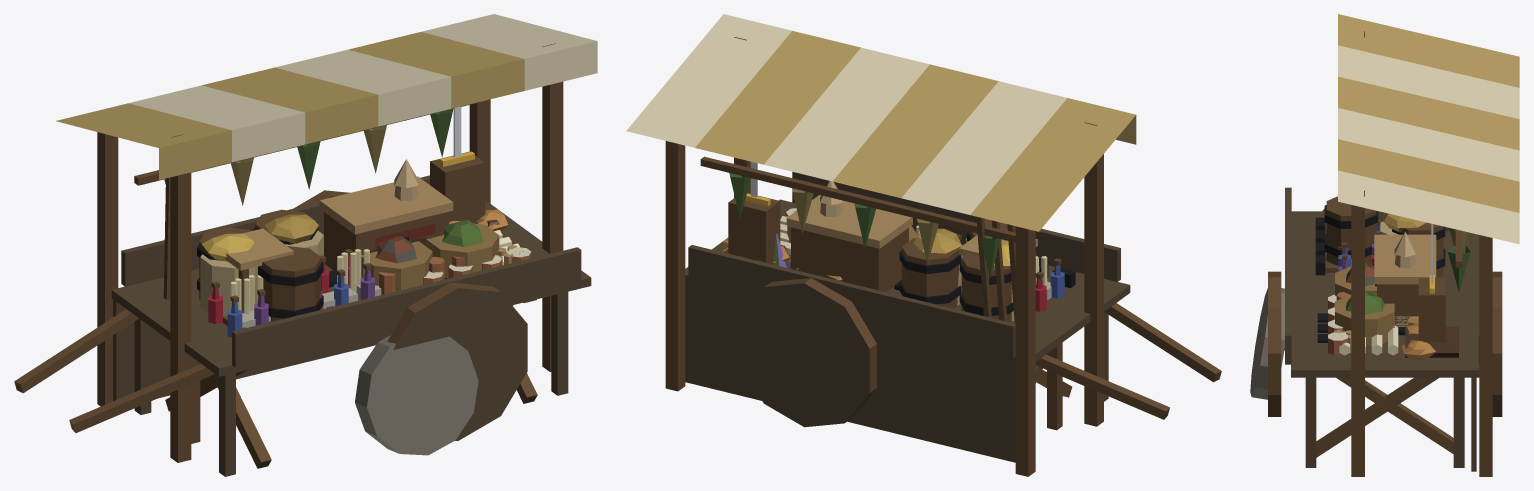
The model's file is marktstaende.glb.
The picture shows the model from 3 angles, left to right: view 1: azimuth 30°, elevation 25°; view 2: azimuth 150°, elevation 25°; view 3: azimuth 270°, elevation 25°; orthographic projection. The views are drawn at different scales.
Parts seen in each view (by area): view 1: Stand_Plane, Stand_Karren, Auslage_Stein, Auslage_Rohstoffe, Auslage_Holz, Stand_Bock, Auslage_Bier, Auslage_Tinktur, Auslage_Eisen, Auslage_Duft, Auslage_Kerzen; view 2: Stand_Plane, Stand_Karren, Auslage_Holz, Auslage_Tinktur, Auslage_Bier, Auslage_Eisen, Stand_Bock, Auslage_Rohstoffe, Auslage_Duft; view 3: Stand_Plane, Stand_Karren, Stand_Bock, Auslage_Rohstoffe, Auslage_Holz, Auslage_Bier, Auslage_Eisen, Auslage_Stein, Auslage_Tinktur, Auslage_Kerzen, Auslage_Duft.
Part boxes in pixels (<box>): Stand_Plane: <box>56,14,597,476</box>; Stand_Karren: <box>14,175,581,443</box>; Auslage_Stein: <box>242,159,478,455</box>; Auslage_Rohstoffe: <box>200,214,500,316</box>; Auslage_Holz: <box>163,176,523,313</box>; Stand_Bock: <box>111,200,591,468</box>; Auslage_Bier: <box>197,209,508,321</box>; Auslage_Tinktur: <box>134,101,531,284</box>; Auslage_Eisen: <box>223,106,485,328</box>; Auslage_Duft: <box>208,249,374,337</box>; Auslage_Kerzen: <box>230,223,519,314</box>; Stand_Plane: <box>626,14,1136,476</box>; Stand_Karren: <box>688,172,1221,430</box>; Auslage_Holz: <box>786,195,1037,323</box>; Auslage_Tinktur: <box>700,156,1015,278</box>; Auslage_Bier: <box>722,219,1015,322</box>; Auslage_Eisen: <box>728,161,1075,290</box>; Stand_Bock: <box>685,199,1130,397</box>; Auslage_Rohstoffe: <box>723,211,1014,320</box>; Auslage_Duft: <box>773,233,1064,311</box>; Stand_Plane: <box>1305,14,1519,476</box>; Stand_Karren: <box>1268,187,1502,416</box>; Stand_Bock: <box>1291,211,1479,457</box>; Auslage_Rohstoffe: <box>1335,211,1458,357</box>; Auslage_Holz: <box>1334,211,1449,352</box>; Auslage_Bier: <box>1324,196,1445,359</box>; Auslage_Eisen: <box>1315,217,1445,342</box>; Auslage_Stein: <box>1250,231,1417,399</box>; Auslage_Tinktur: <box>1328,228,1470,355</box>; Auslage_Kerzen: <box>1339,326,1398,355</box>; Auslage_Duft: <box>1338,219,1380,271</box>.
Size of the model in its own units: 3.96 by 2.38 by 2.
